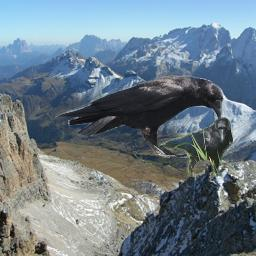Crow: (55, 75, 223, 158), (157, 117, 233, 177)
